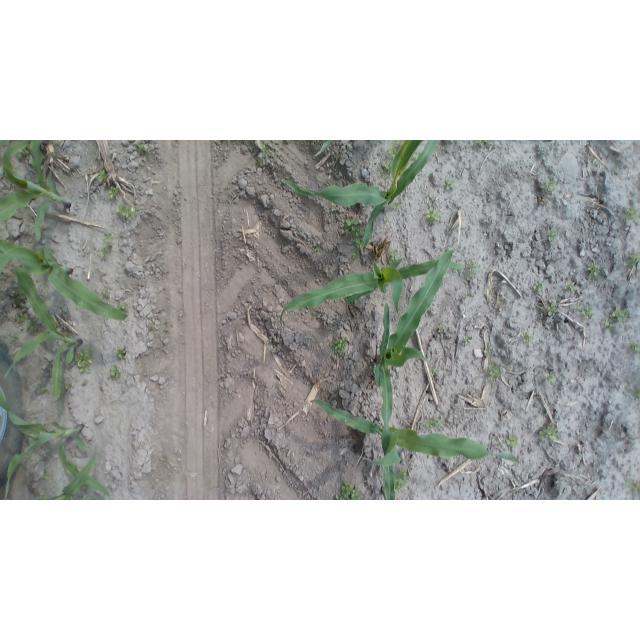Maize: (310, 396, 495, 498), (279, 141, 440, 248), (374, 250, 458, 442), (277, 249, 451, 327), (0, 392, 112, 500), (4, 264, 85, 396), (1, 241, 128, 321), (1, 142, 72, 247), (39, 458, 105, 499)
Weeds: (73, 347, 95, 376), (605, 305, 631, 329), (336, 480, 363, 500), (97, 232, 116, 259), (348, 227, 365, 257), (537, 422, 561, 443), (393, 466, 411, 494), (115, 202, 140, 222), (344, 218, 365, 241), (425, 207, 444, 225), (332, 337, 349, 356), (622, 205, 639, 224), (129, 143, 151, 157), (24, 317, 42, 334), (575, 303, 594, 319), (487, 362, 502, 382), (623, 250, 638, 269), (466, 260, 481, 278), (109, 365, 124, 382), (260, 143, 273, 162), (543, 177, 558, 193), (387, 248, 401, 265), (505, 434, 520, 449), (427, 416, 444, 429), (97, 169, 110, 186), (16, 312, 33, 325), (17, 147, 32, 161), (388, 143, 401, 159), (532, 280, 545, 296), (4, 334, 20, 347), (546, 226, 559, 242), (116, 347, 129, 362), (546, 302, 559, 317), (588, 262, 601, 277), (628, 480, 639, 496), (108, 186, 121, 199), (452, 261, 464, 275), (381, 162, 392, 177), (521, 331, 533, 344), (444, 178, 455, 192), (564, 282, 579, 292), (146, 322, 157, 335), (545, 372, 556, 384), (629, 341, 639, 354), (163, 322, 173, 334), (328, 203, 340, 213), (64, 381, 74, 393), (116, 302, 128, 312), (101, 288, 110, 301), (483, 347, 493, 358), (463, 334, 474, 344), (430, 368, 440, 378), (393, 200, 404, 209), (475, 141, 489, 148), (462, 292, 472, 301), (312, 243, 320, 253), (40, 385, 48, 394), (633, 385, 638, 399), (436, 327, 445, 334), (84, 496, 95, 500)
